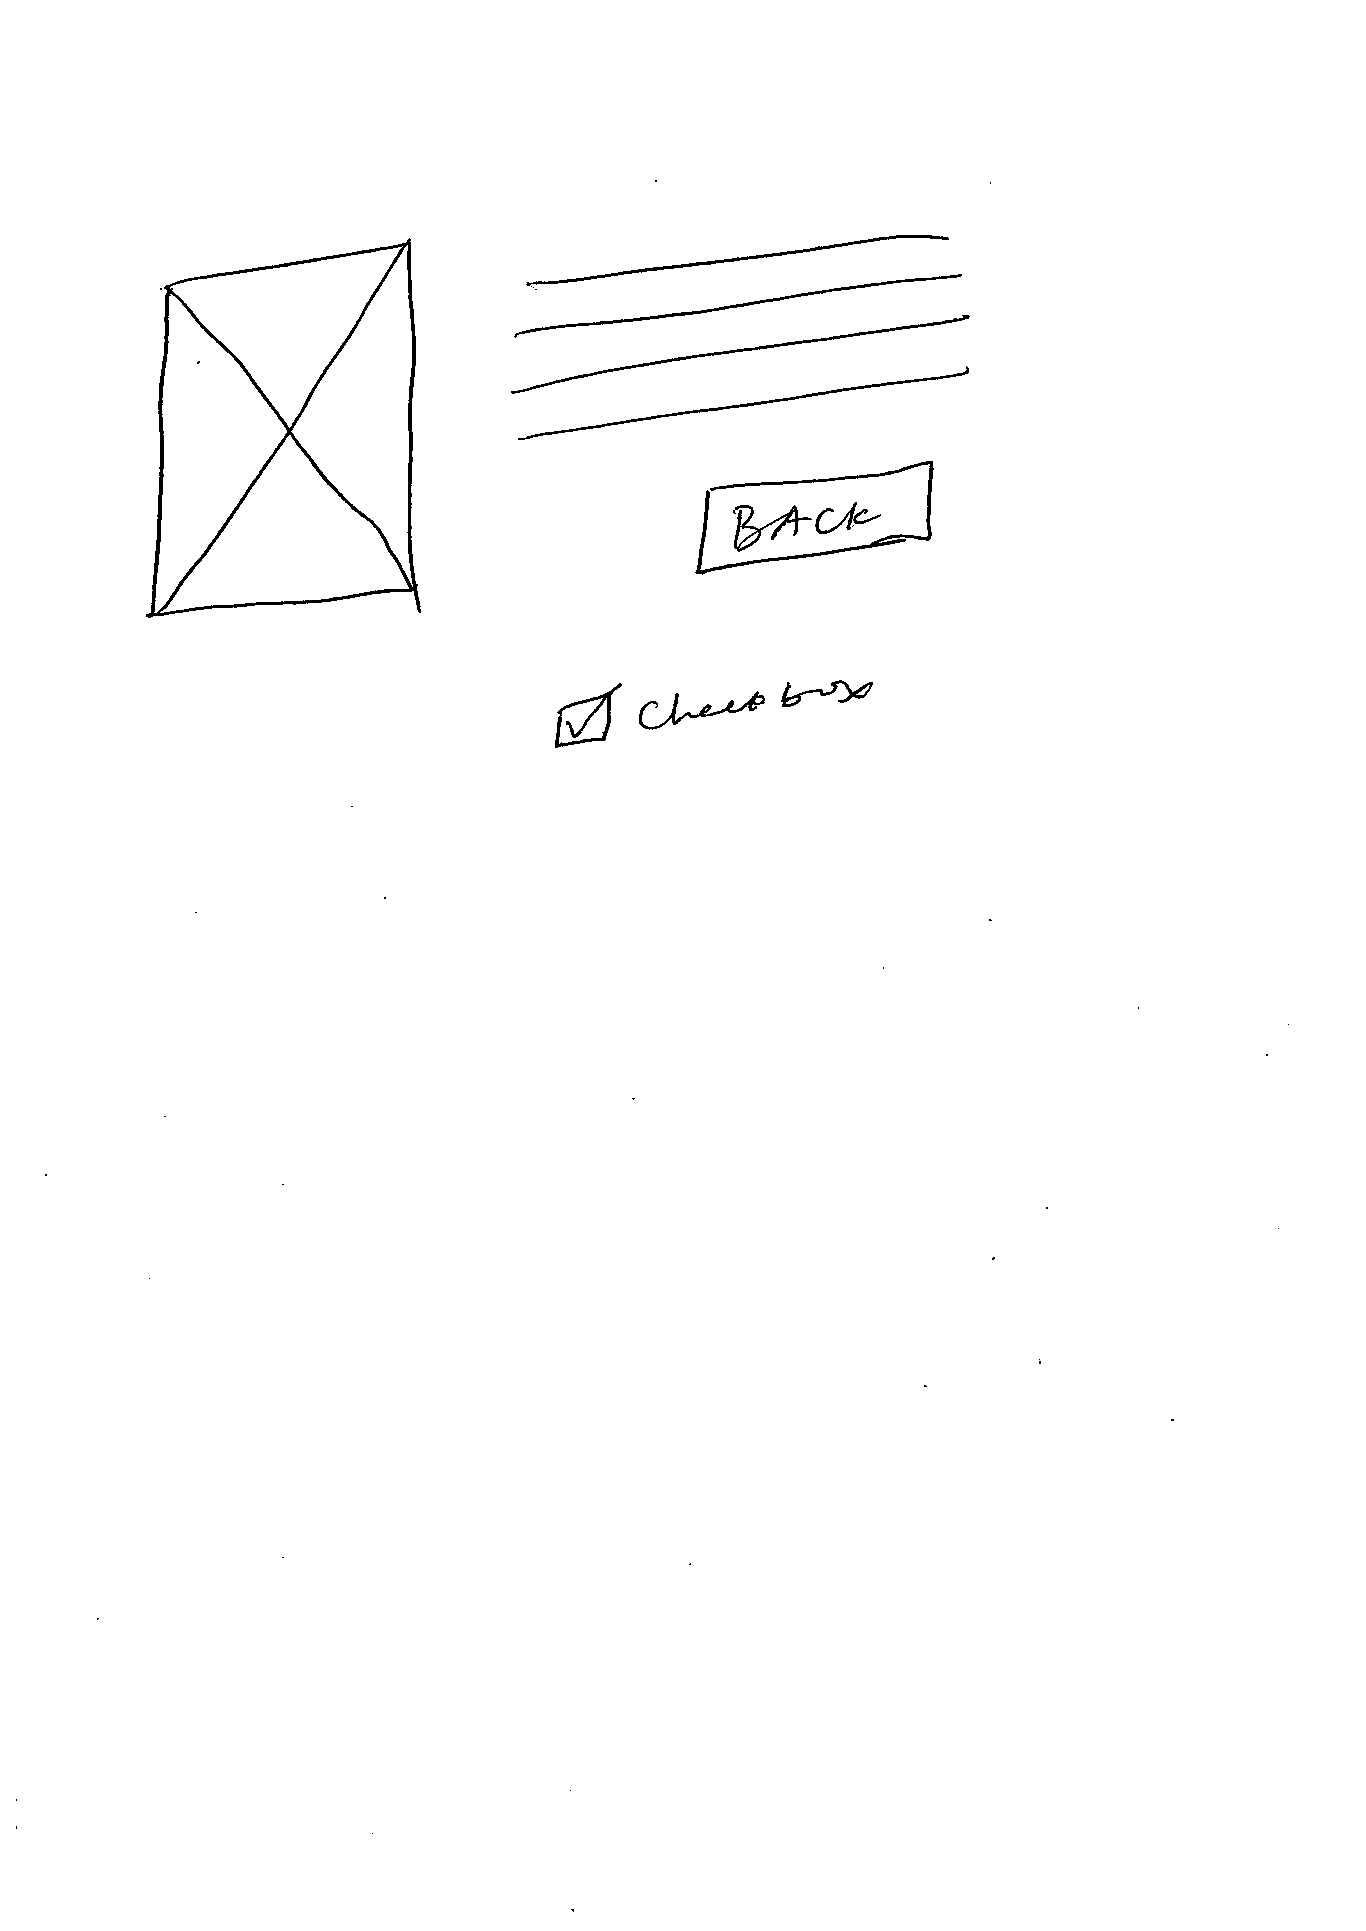Button: (686, 452, 945, 580)
Check Box: (543, 665, 880, 759)
Image: (142, 238, 424, 625)
Paragraph: (514, 217, 980, 447)
